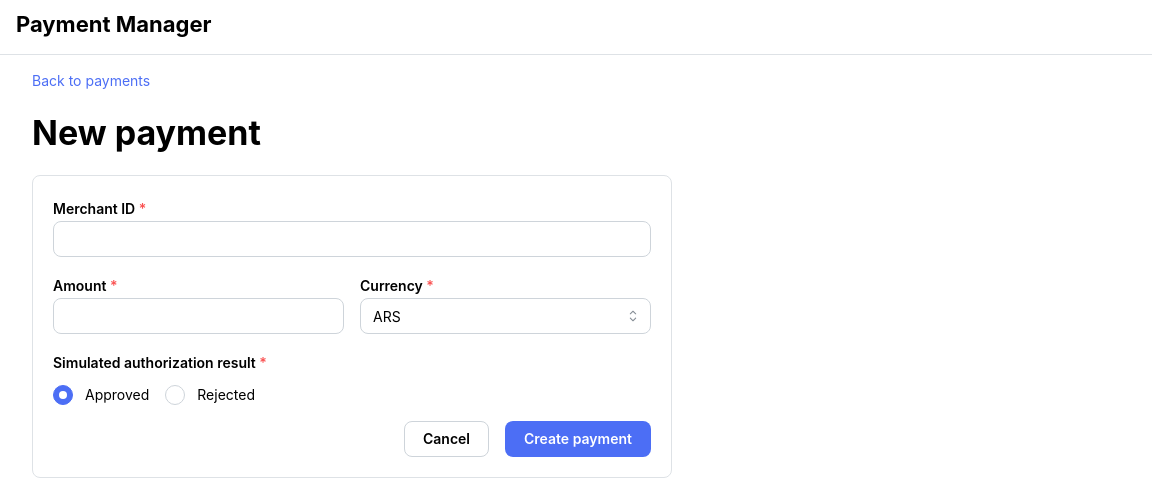
it: CreatePaymentPage › given an approved payment, when it is created, then notifies the approval
Type "merchant-001" into the field labelled "Merchant ID" at (352, 239), box top-left (53, 221), bottom-right (651, 257)
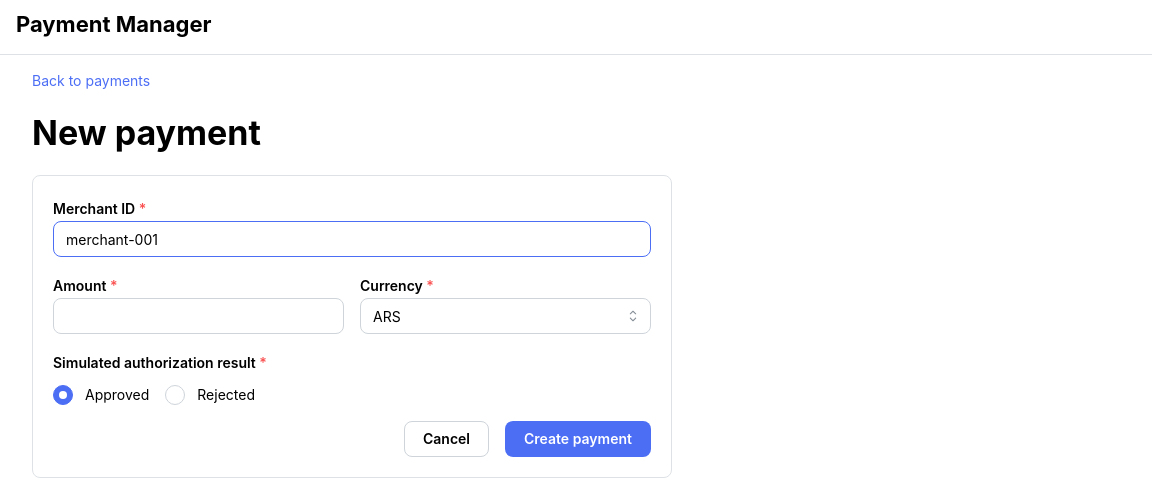
Type "1500.5" into the field labelled "Amount" at (198, 316), box top-left (53, 298), bottom-right (344, 334)
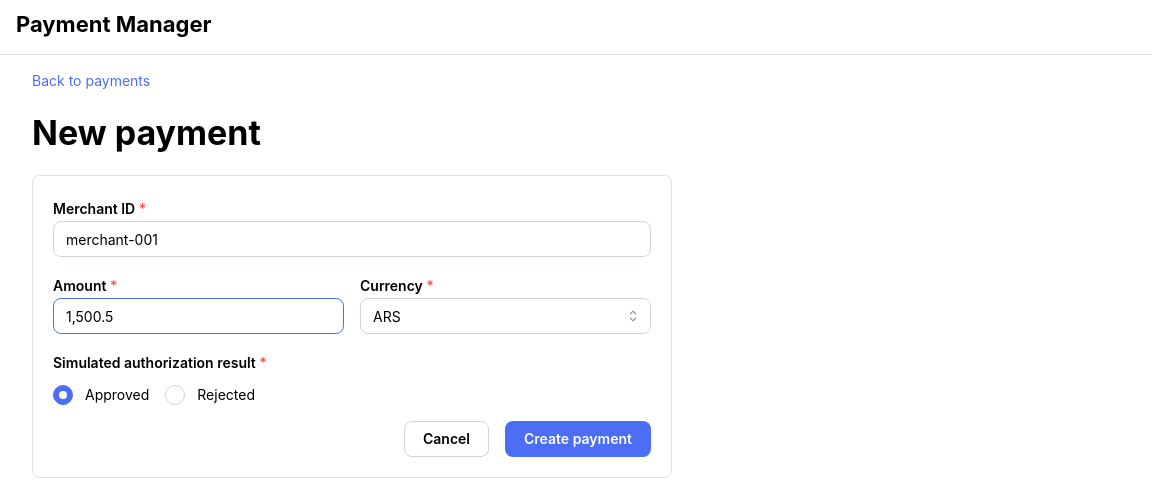
Click the button "Create payment" at (578, 439), box top-left (505, 421), bottom-right (651, 457)
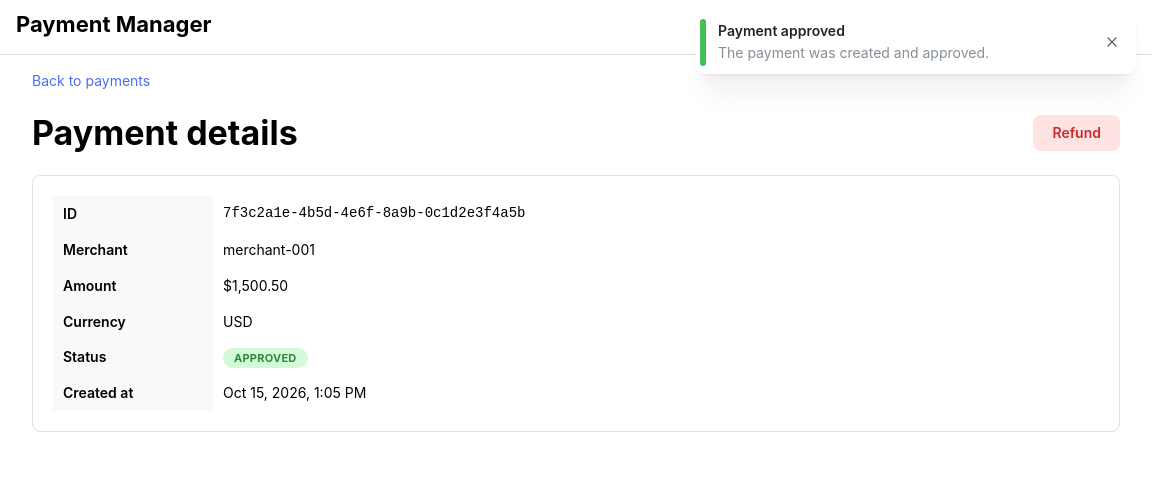
Now the text "Payment approved" is shown, box top-left (718, 22), bottom-right (845, 39)
